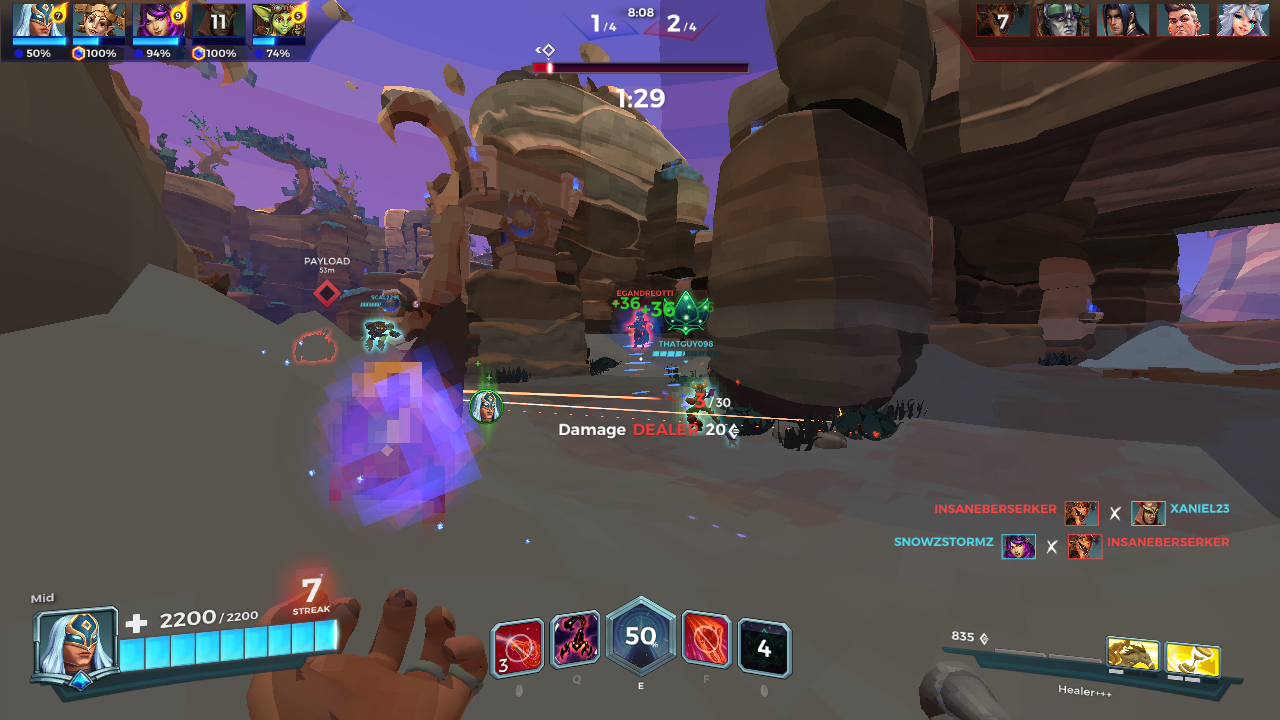model: (627, 308, 651, 350)
